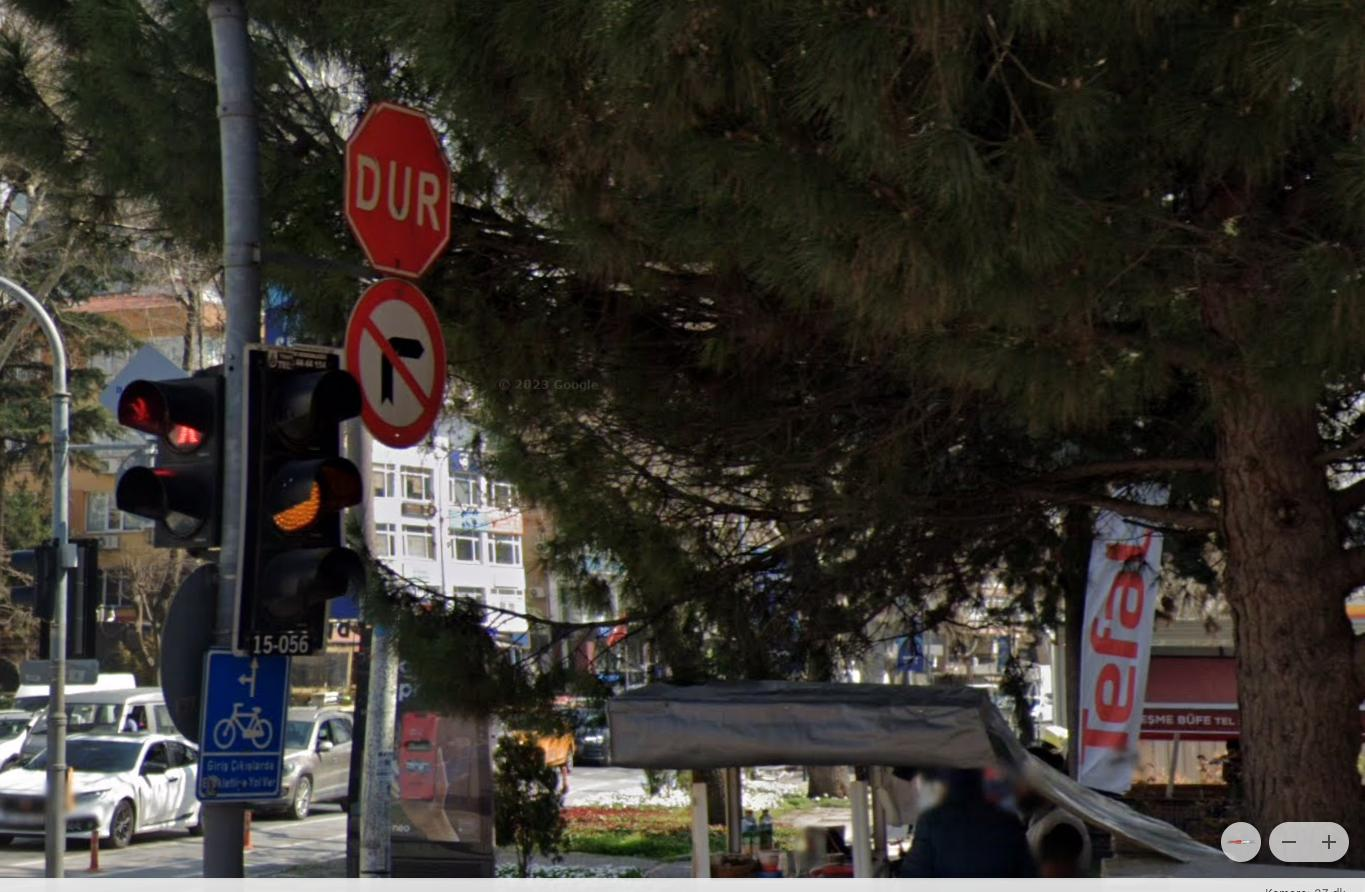rightturnsareforbidden: (346, 276, 448, 445)
stop: (338, 96, 458, 281)
yellowlight: (240, 341, 340, 660)
